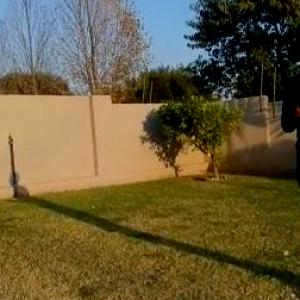follow: (276, 7, 299, 292)
